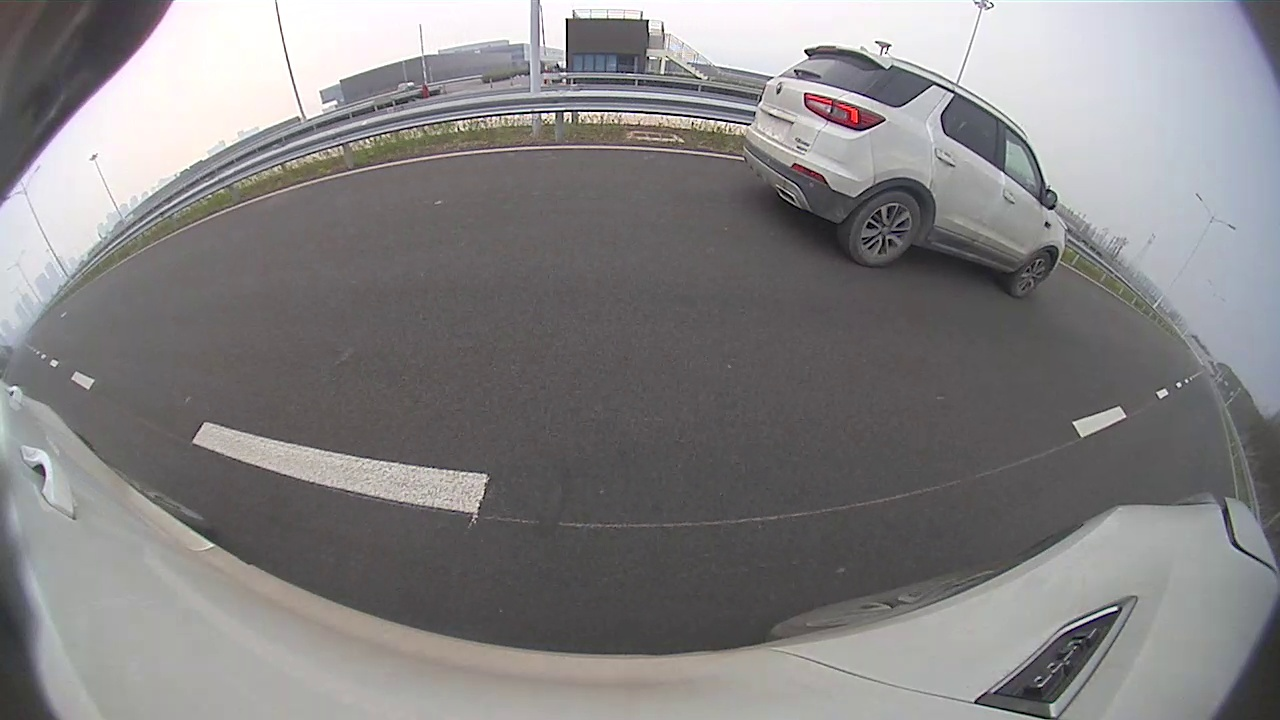car: (741, 46, 1068, 299)
front: (1010, 251, 1052, 303)
rear: (850, 191, 922, 269)
